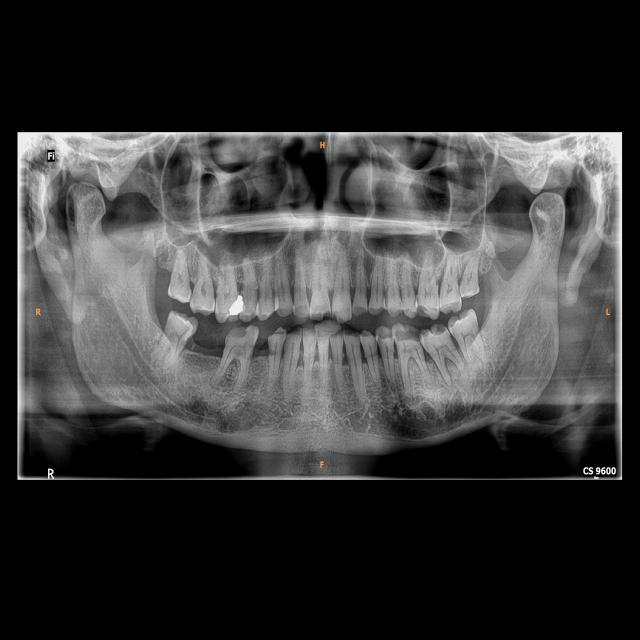dentin-curugu: (393, 321, 423, 348), (220, 322, 252, 343), (426, 321, 450, 340)
dolgu: (225, 287, 249, 318)
